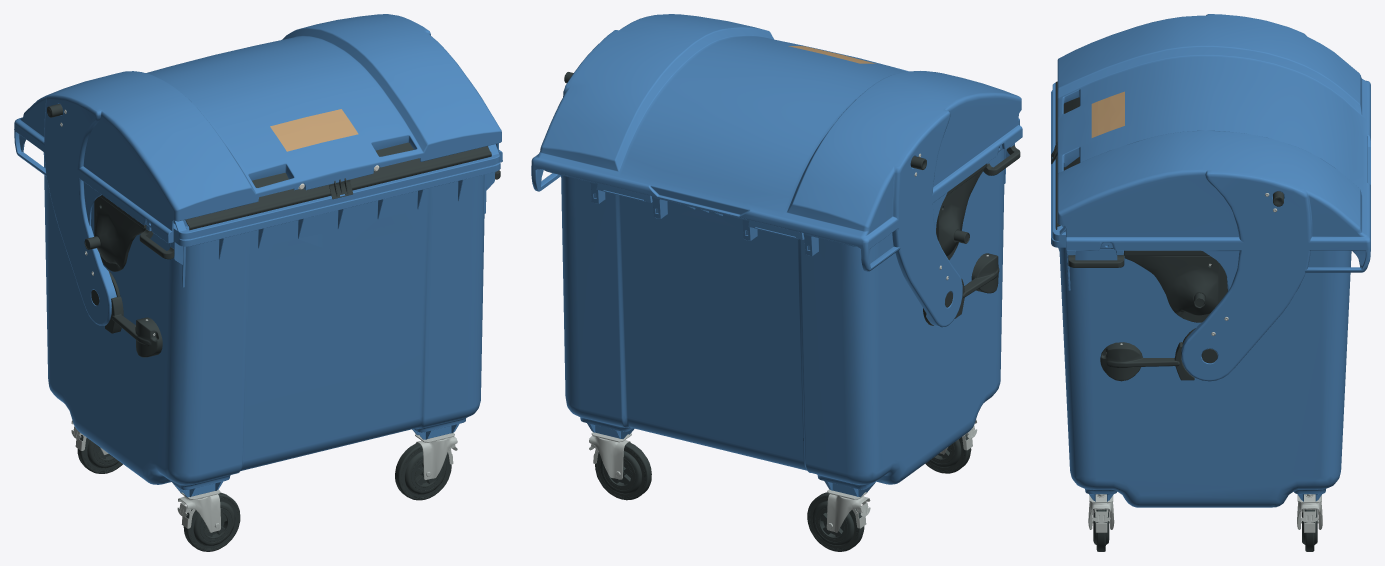
Rendered from container_plastic_grit_blue_b01.glb.
The picture shows the model from 3 angles, left to right: view 1: azimuth 30°, elevation 25°; view 2: azimuth 150°, elevation 25°; view 3: azimuth 270°, elevation 25°; orthographic projection. The views are drawn at different scales.
Size of the model in its own units: 1.55 by 1.72 by 1.22.
